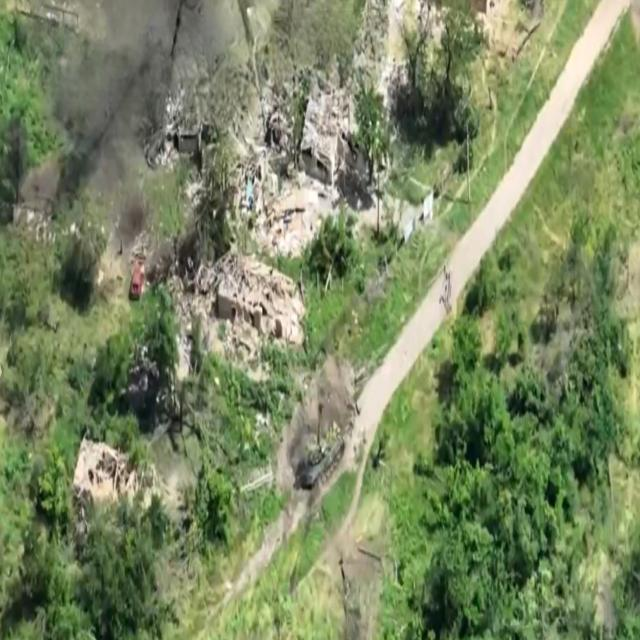MBT: (297, 405, 347, 496)
Vehicle: (130, 268, 145, 303)
